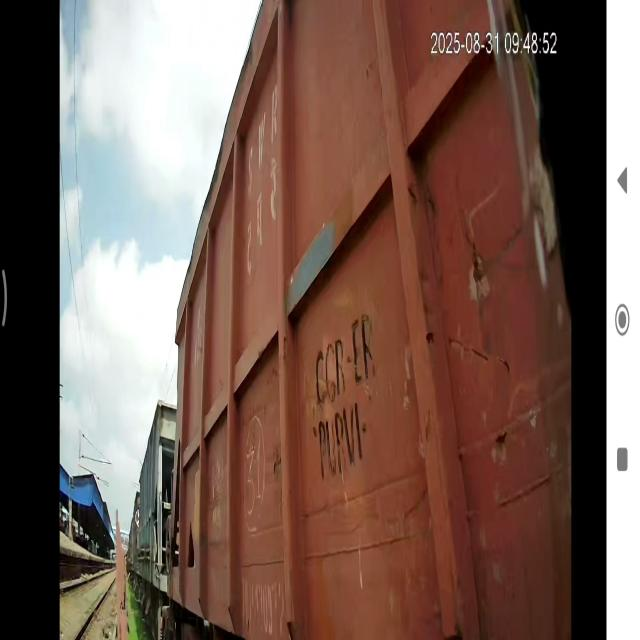coach: (178, 0, 594, 640)
